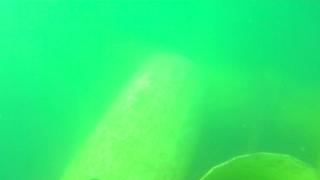pipe: (60, 48, 212, 180), (199, 151, 320, 180)
